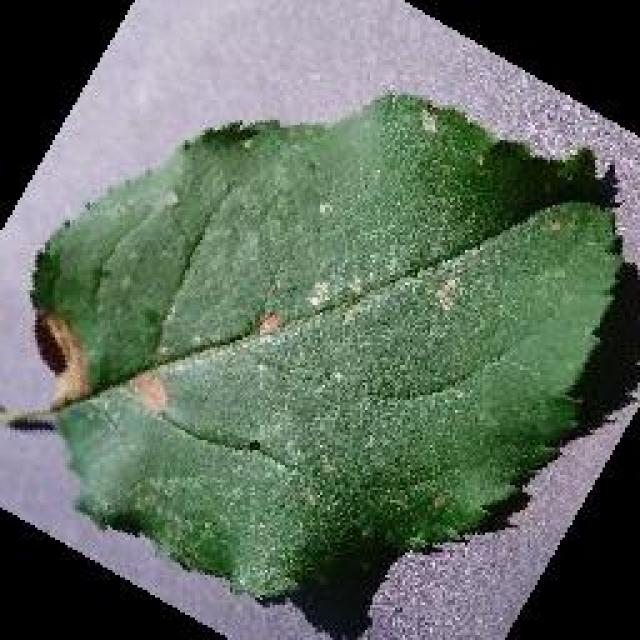apple black rot: (22, 88, 632, 602)
